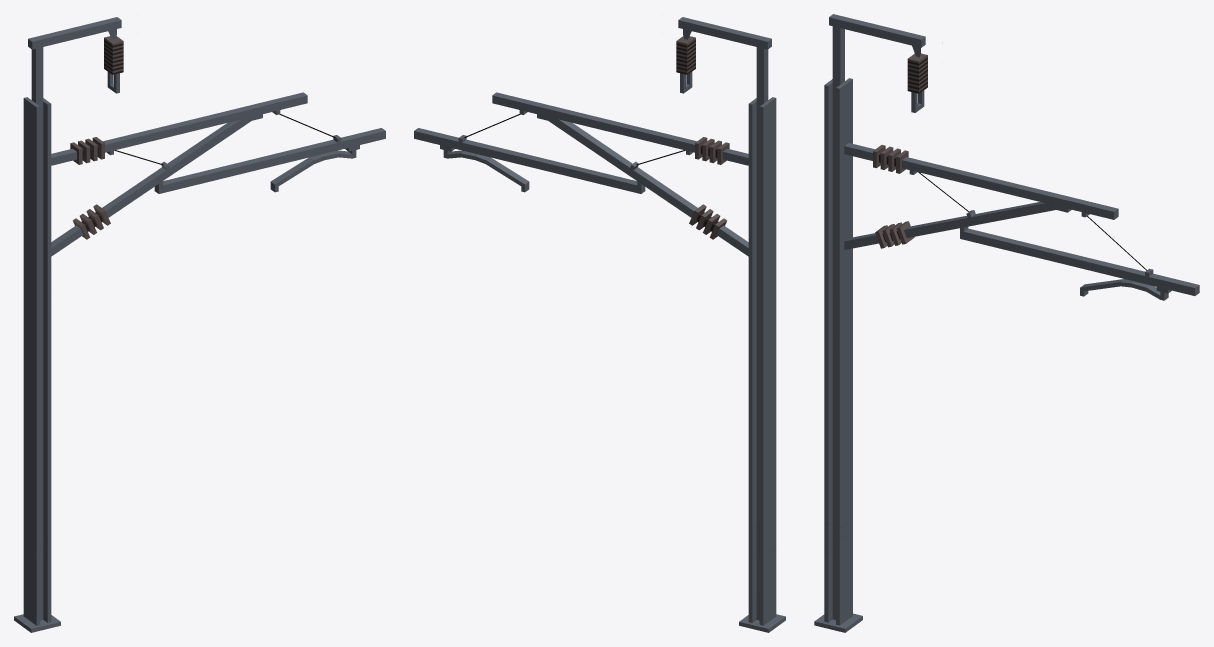
The model's file is athen-catenary-7m.obj.
3 views of the same model, side by side, from view 1: azimuth 30°, elevation 25°; view 2: azimuth 150°, elevation 25°; view 3: azimuth 330°, elevation 25° (orthographic). The views are drawn at different scales.
Parts seen in each view (by area): view 1: cube; view 2: cube; view 3: cube.
Boxes of the visible parts, x1=… form: cube: x1=14, y1=17, x2=385, y2=632; cube: x1=414, y1=17, x2=785, y2=632; cube: x1=814, y1=14, x2=1199, y2=632.
Size of the model in its own units: 6.06 by 9.38 by 0.5.
1 material, 1 textured.
